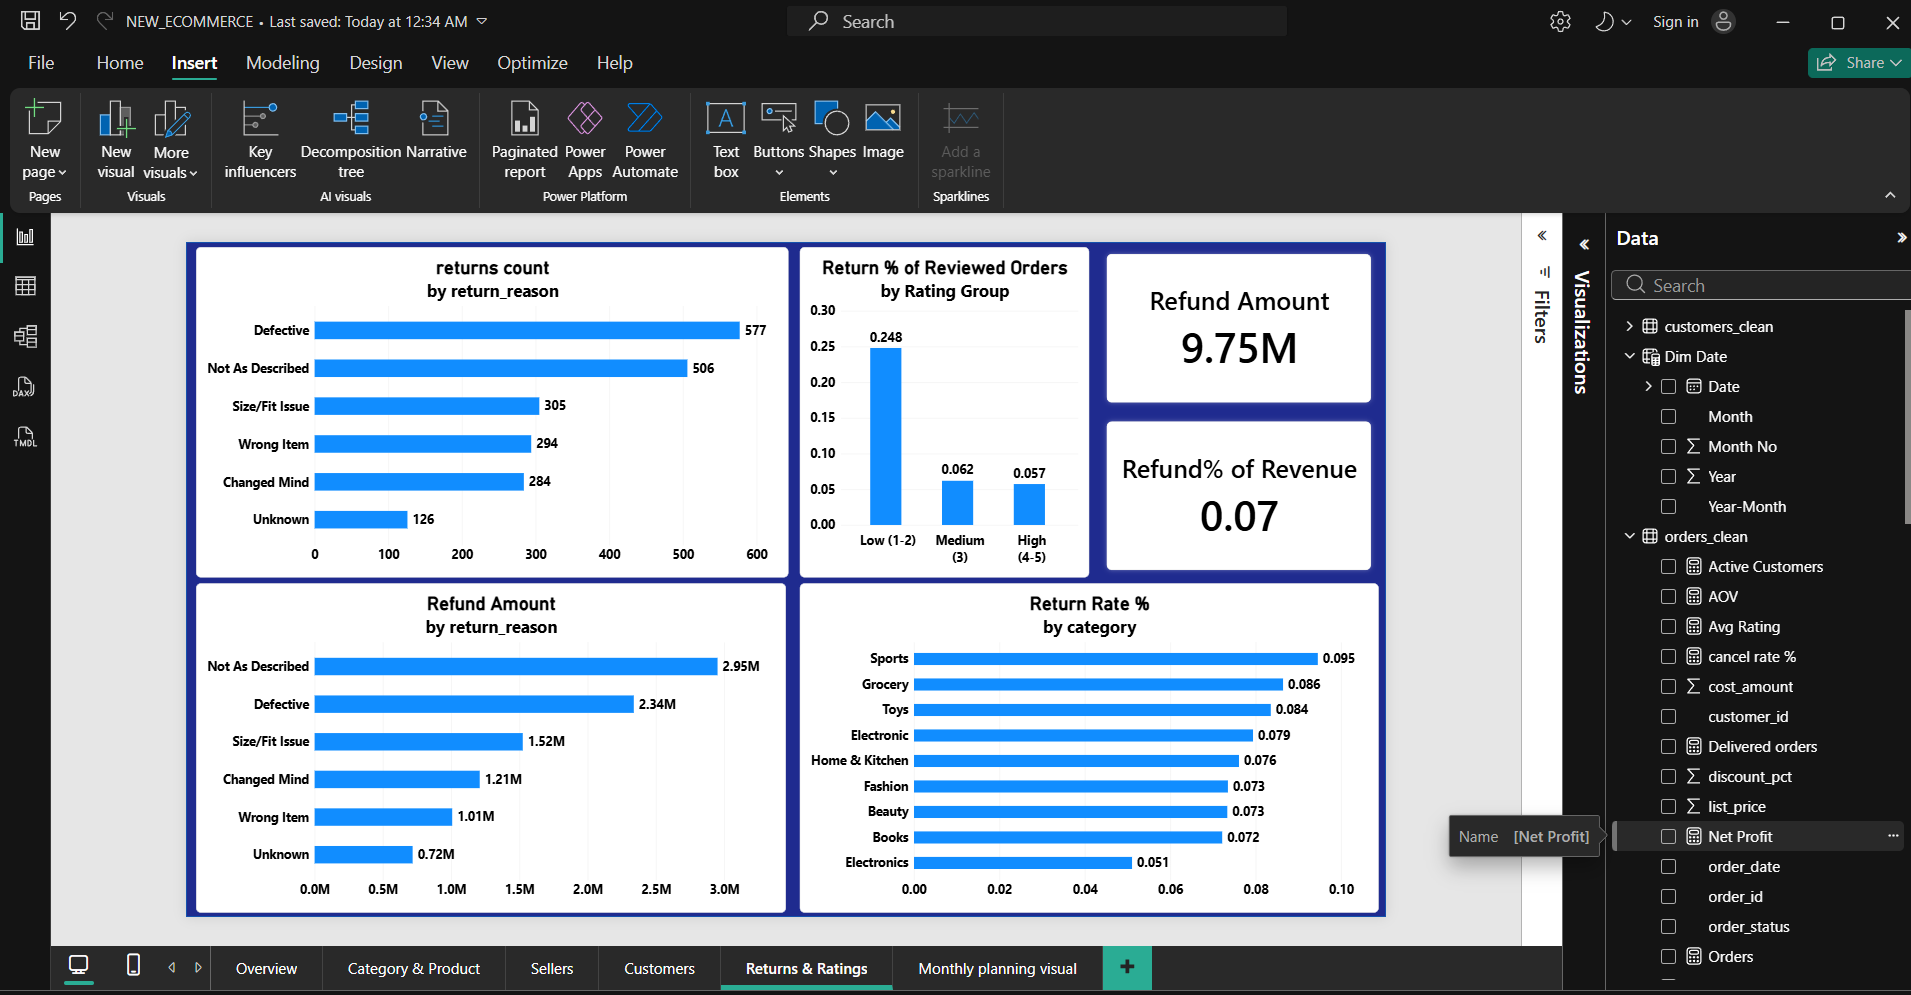

Layout of this report page (visuals, bound fields, positions):
{"tool":"powerbi","page":{"name":"Returns & Ratings","canvas":[1920,1080],"ordinal":4},"visuals":[{"type":"shape","box":[0,0,1920,1080],"z":0},{"type":"barChart","fields":{"Category":["returns_clean.return_reason"],"Y":["orders_clean.returns count"]},"box":[15.4,8.8,948.1,529.2],"z":1000},{"type":"barChart","fields":{"Category":["returns_clean.return_reason"],"Y":["orders_clean.Refund Amount"]},"box":[15.4,546.8,943.7,527],"z":2000},{"type":"columnChart","fields":{"Y":["reviews_clean.Return % of Reviewed Orders"],"Category":["reviews_clean.Rating Group"]},"box":[981.2,8.8,463,529.2],"z":3000},{"type":"barChart","fields":{"Category":["products_clean.category"],"Y":["orders_clean.Return Rate %"]},"box":[981.2,546.8,926,527],"z":4000},{"type":"cardVisual","fields":{"Data":["orders_clean.Refund Amount","orders_clean.Refund% of Revenue"]},"box":[1461.8,8.8,445.4,529.2],"z":5000}]}

Visuals, with their boxes on the page's 1920x1080 design canvas (x1, y1, x2, y2). These are canvas units, not pixel positions in the 1911x995 screenshot, which may show the page scaled, cropped or inside an application window:
shape: bbox=(0, 0, 1920, 1080)
barChart - returns_clean.return_reason x orders_clean.returns count: bbox=(15, 9, 964, 538)
barChart - returns_clean.return_reason x orders_clean.Refund Amount: bbox=(15, 547, 959, 1074)
columnChart - reviews_clean.Return % of Reviewed Orders x reviews_clean.Rating Group: bbox=(981, 9, 1444, 538)
barChart - products_clean.category x orders_clean.Return Rate %: bbox=(981, 547, 1907, 1074)
cardVisual - orders_clean.Refund Amount x orders_clean.Refund% of Revenue: bbox=(1462, 9, 1907, 538)
